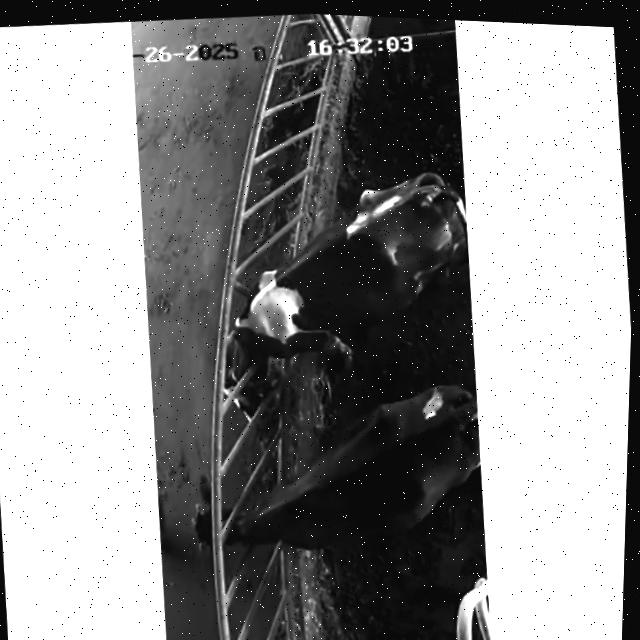eat: (161, 259, 355, 424), (161, 447, 359, 585)
